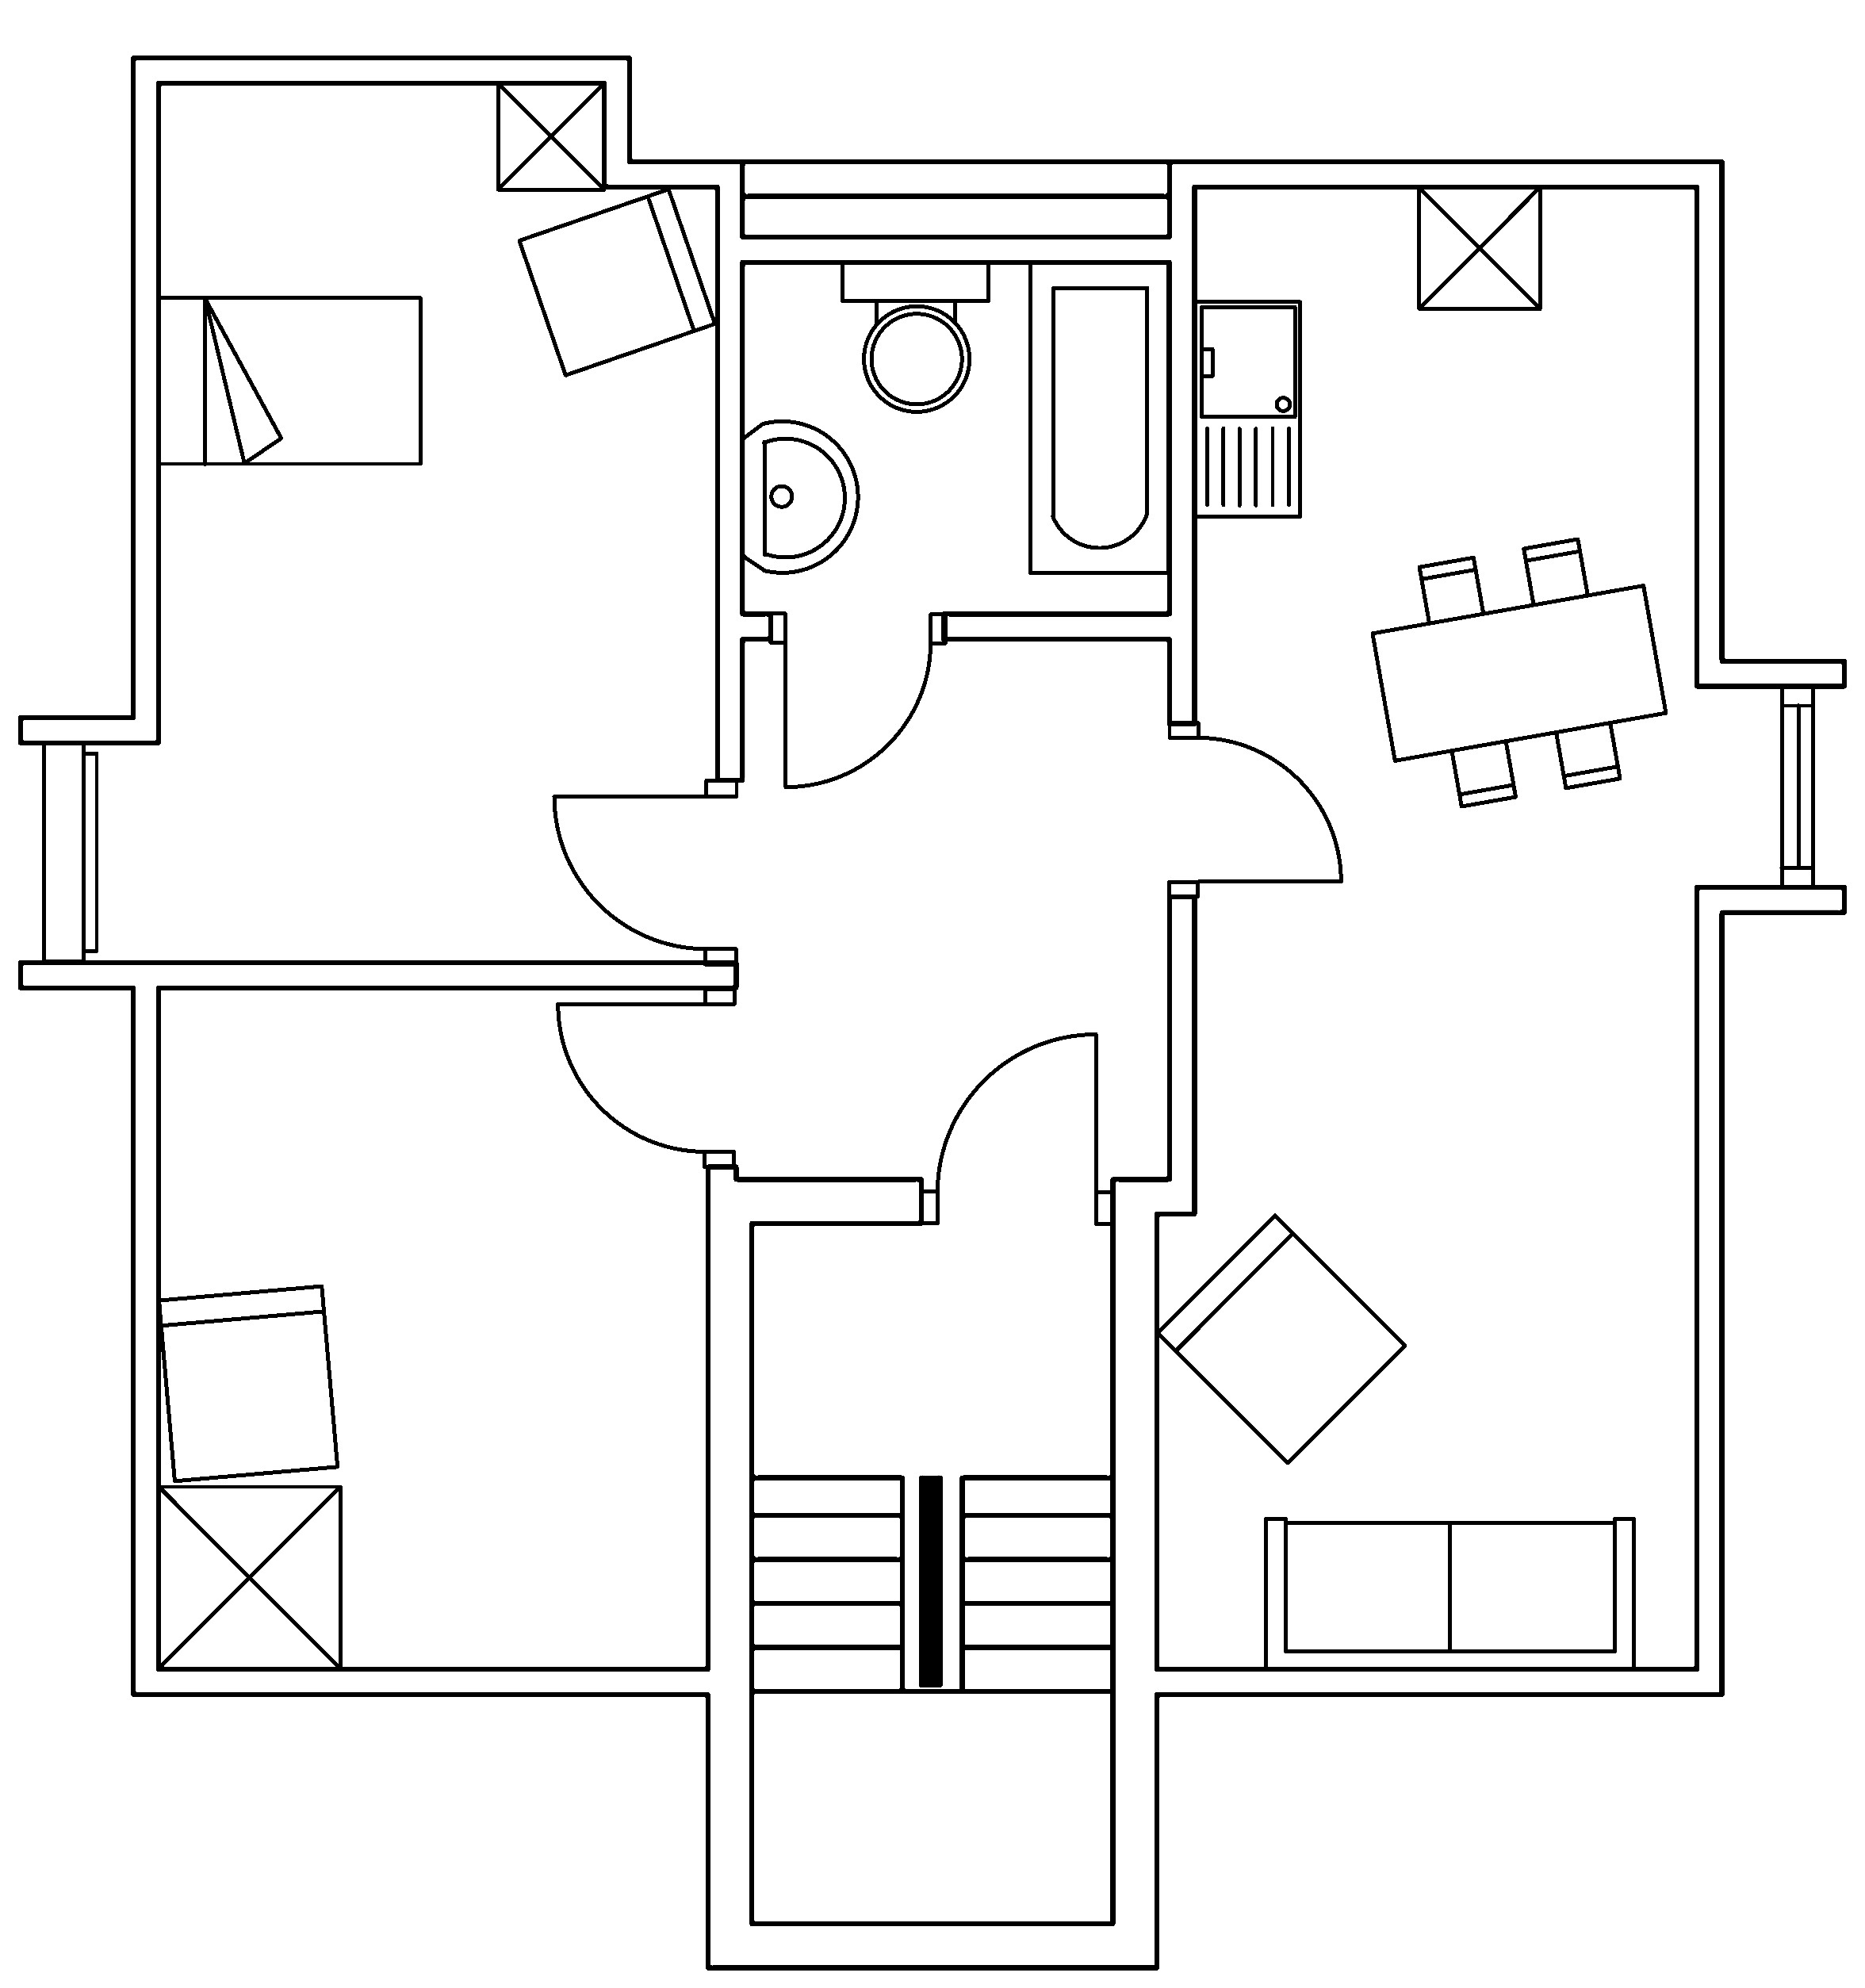bed: (154, 293, 422, 466)
coffee_table: (154, 1481, 342, 1671), (1416, 182, 1542, 310), (494, 79, 606, 191)
dining_table: (1369, 535, 1669, 808)
large_sink: (840, 258, 990, 412)
large_sofa: (1262, 1515, 1637, 1672)
sink: (1192, 298, 1302, 519)
small_sink: (740, 419, 859, 573)
small_sofa: (1153, 1211, 1408, 1464), (515, 186, 717, 377), (156, 1282, 340, 1483)
tub: (1027, 258, 1171, 575)
